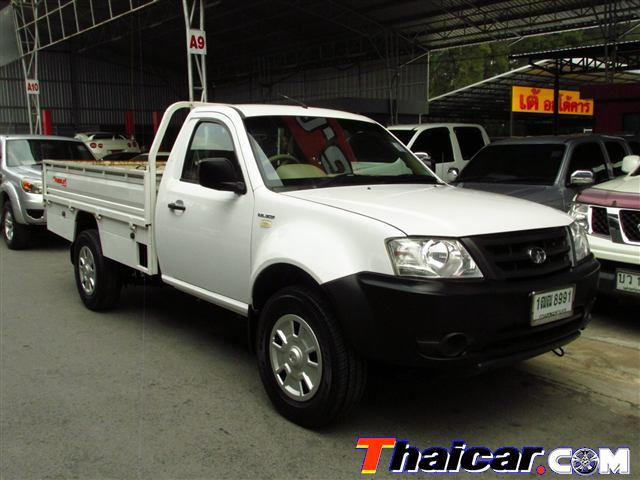pickup: (42, 100, 599, 426)
